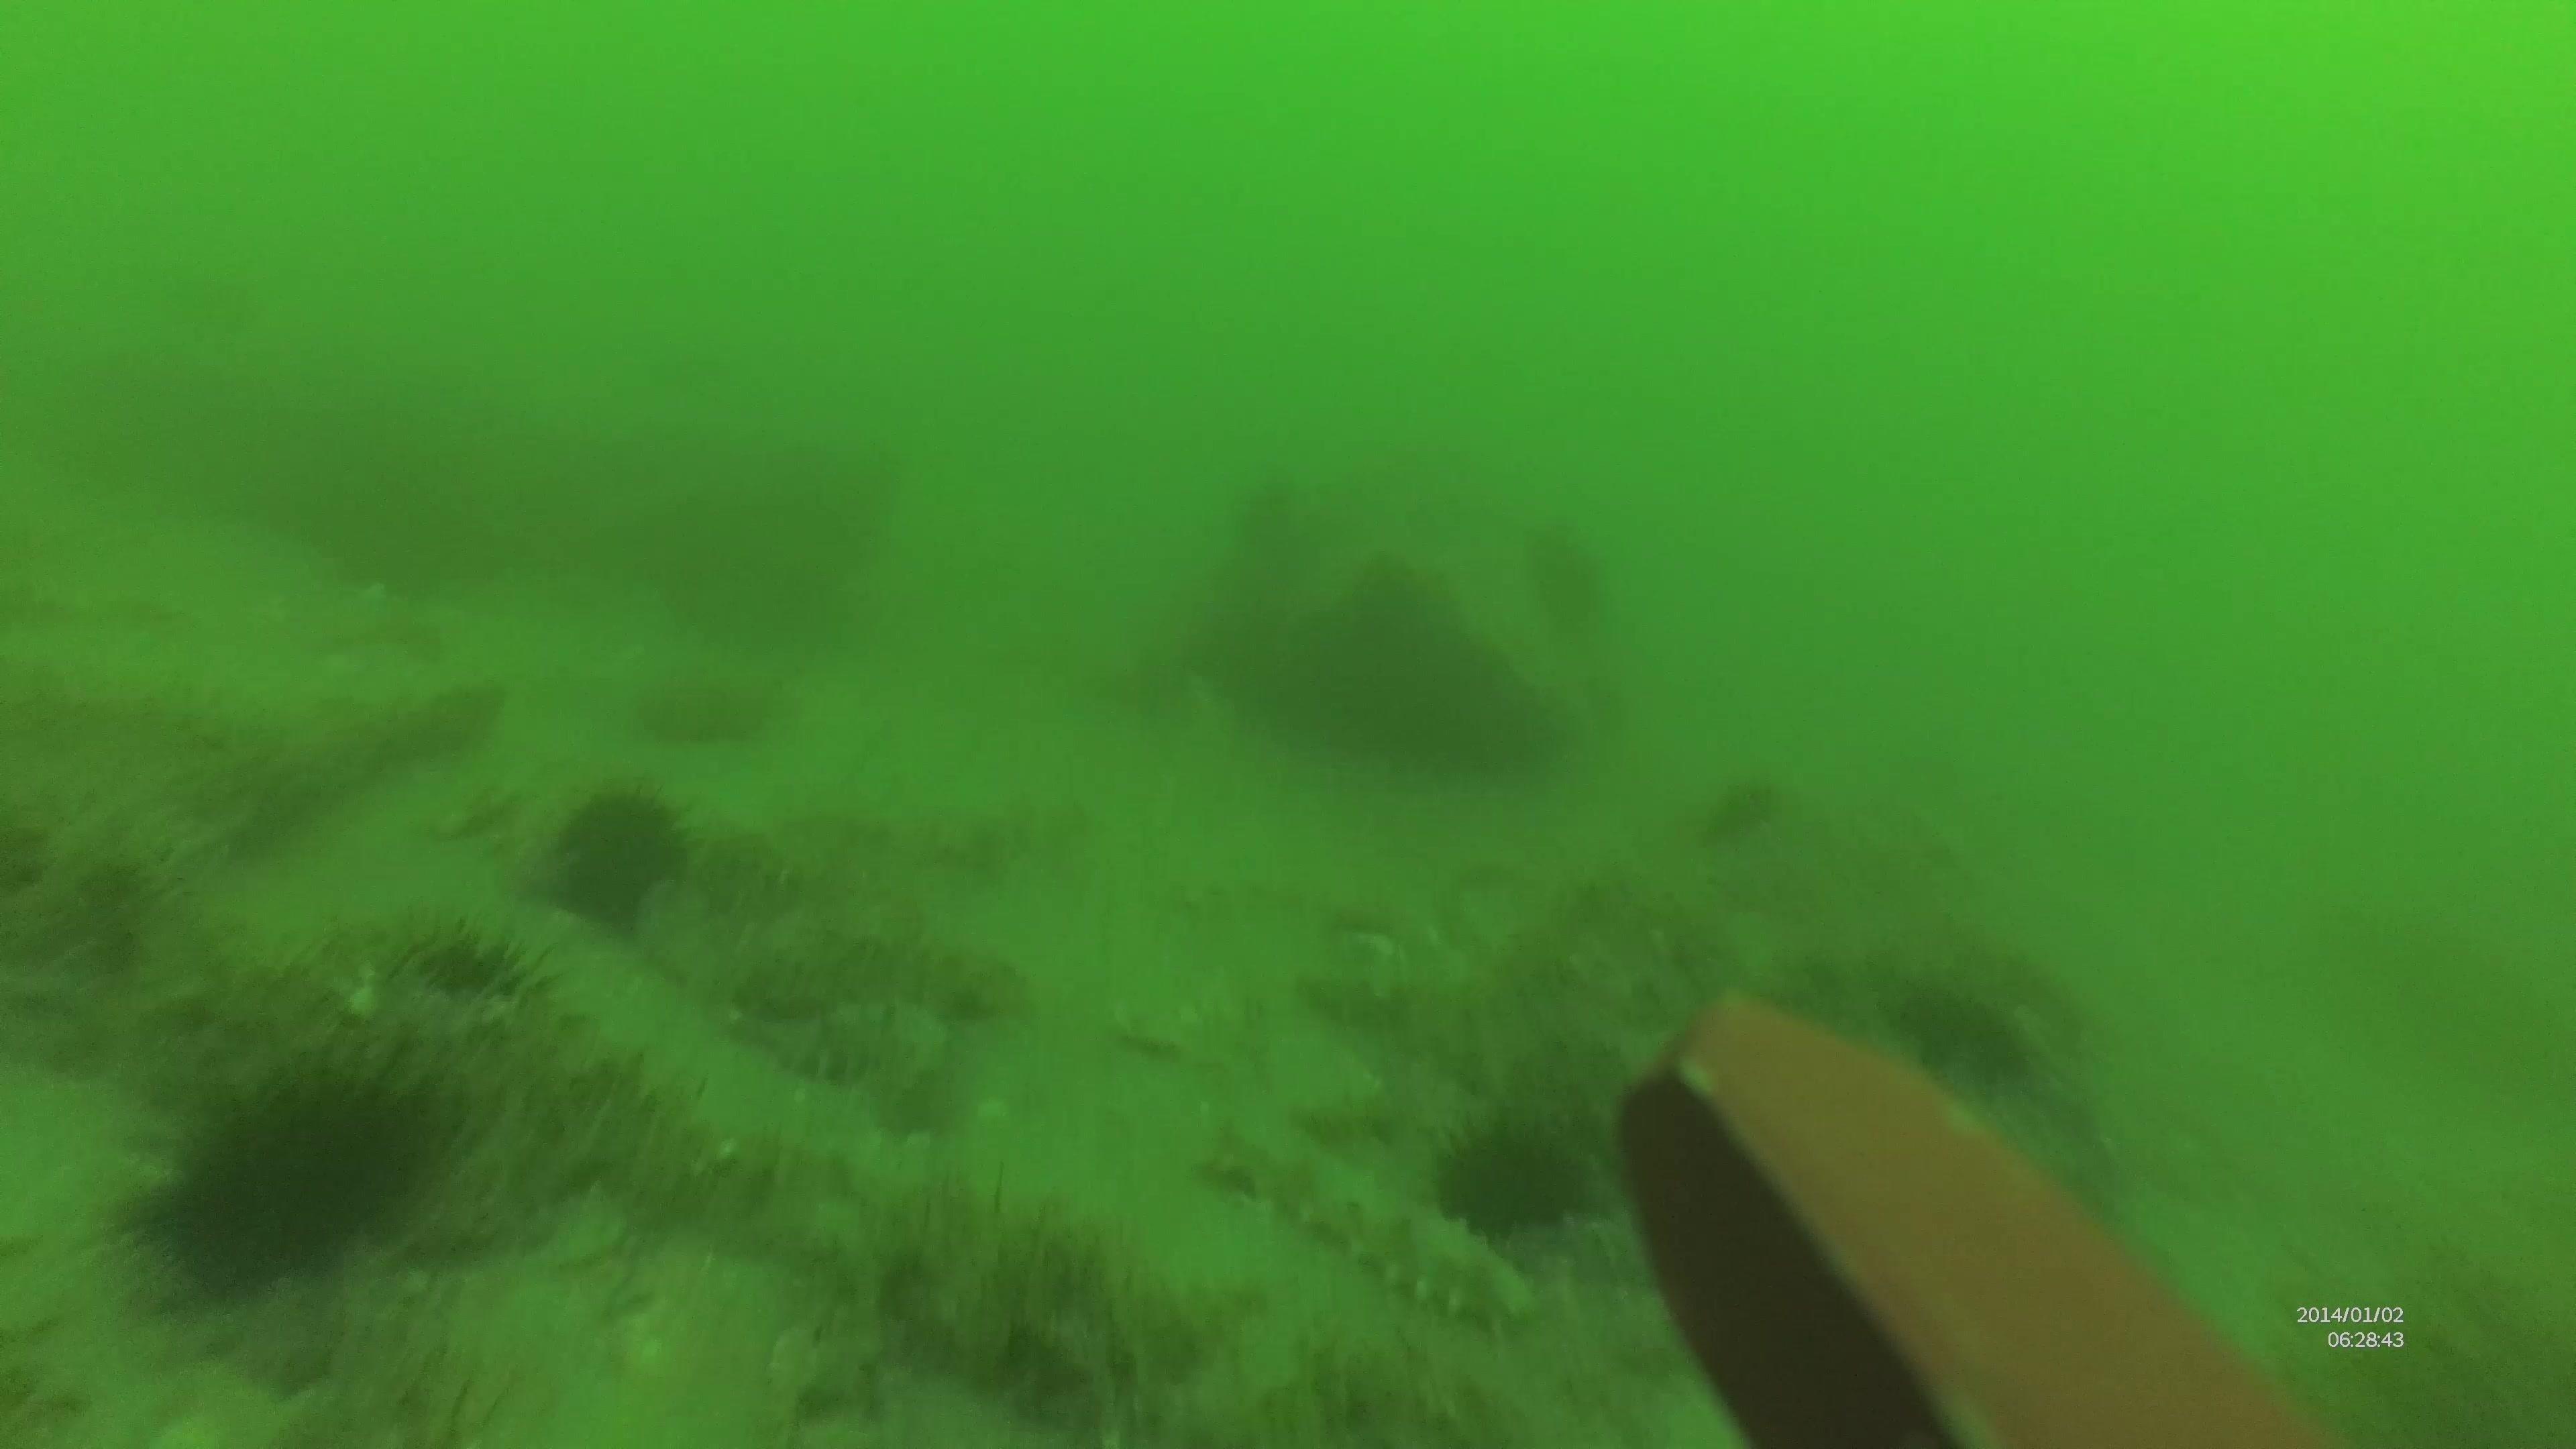echinus: (122, 1039, 456, 1304), (541, 777, 695, 931), (1428, 1111, 1596, 1246), (1882, 968, 2043, 1102), (380, 913, 561, 1024), (1516, 517, 1615, 637)
holothurian: (1203, 1115, 1539, 1336), (755, 954, 985, 1054), (768, 993, 955, 1104)
